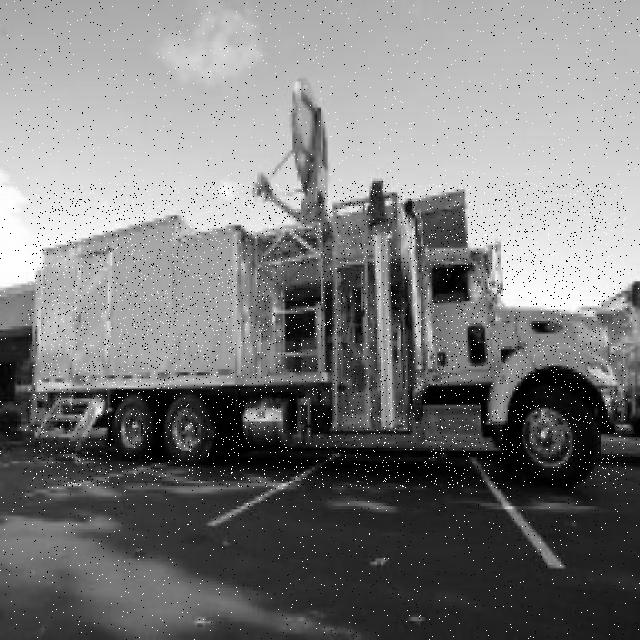Truck- Multi-Axle: (29, 183, 626, 488)
